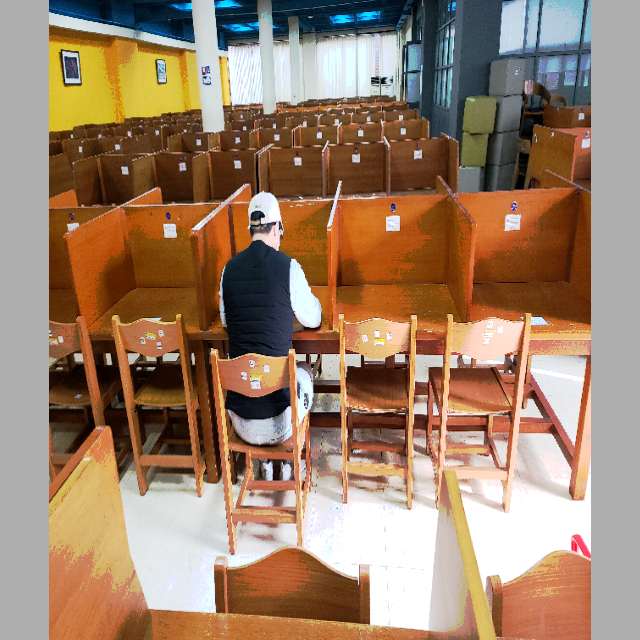empty: (335, 197, 469, 406), (478, 184, 588, 400)
full: (191, 190, 327, 440)
